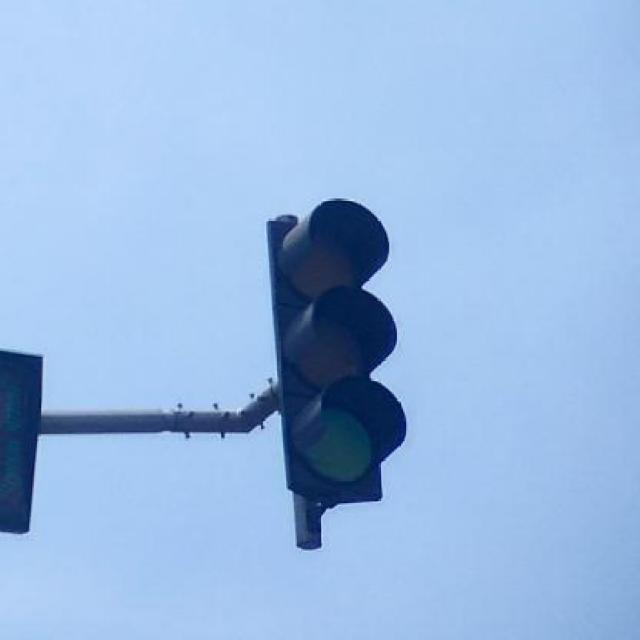traffic light: (265, 205, 396, 506)
